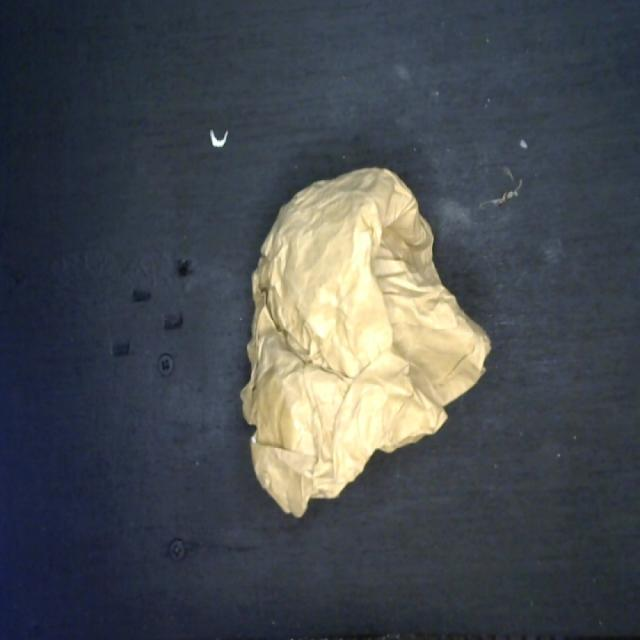biodegradable: (237, 158, 495, 536)
